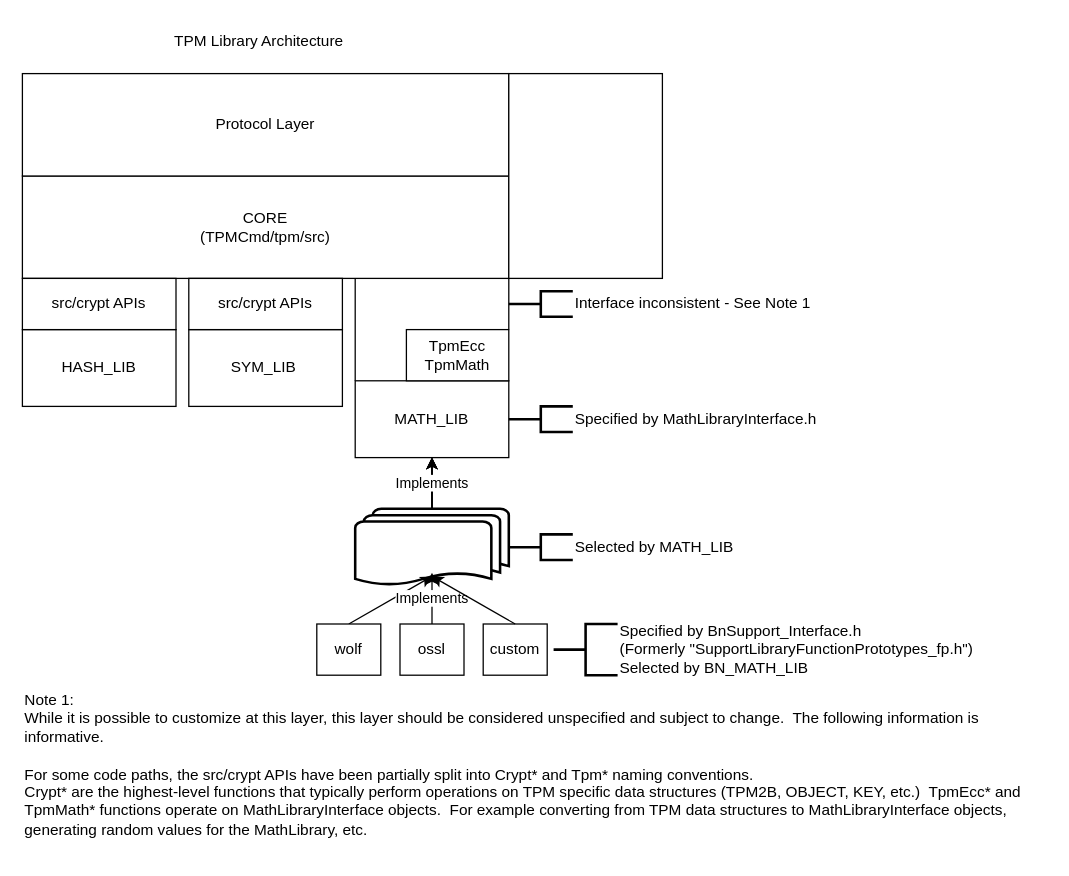
The diagram is 1069 pixels wide and 876 high, and some of its shapes have lost their labels. The shapes that lost their labels are listed below. From the top down, each one's centre as x and y in pixels, then its label:
the point at 585,175: Platform Layer
the point at 431,303: Crypt APIs
the point at 431,546: TpmBigNum
